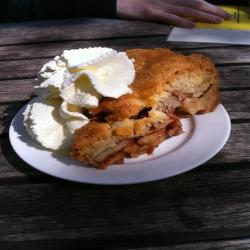apple_pie: (78, 45, 220, 169)
chantilly: (20, 46, 133, 151)
